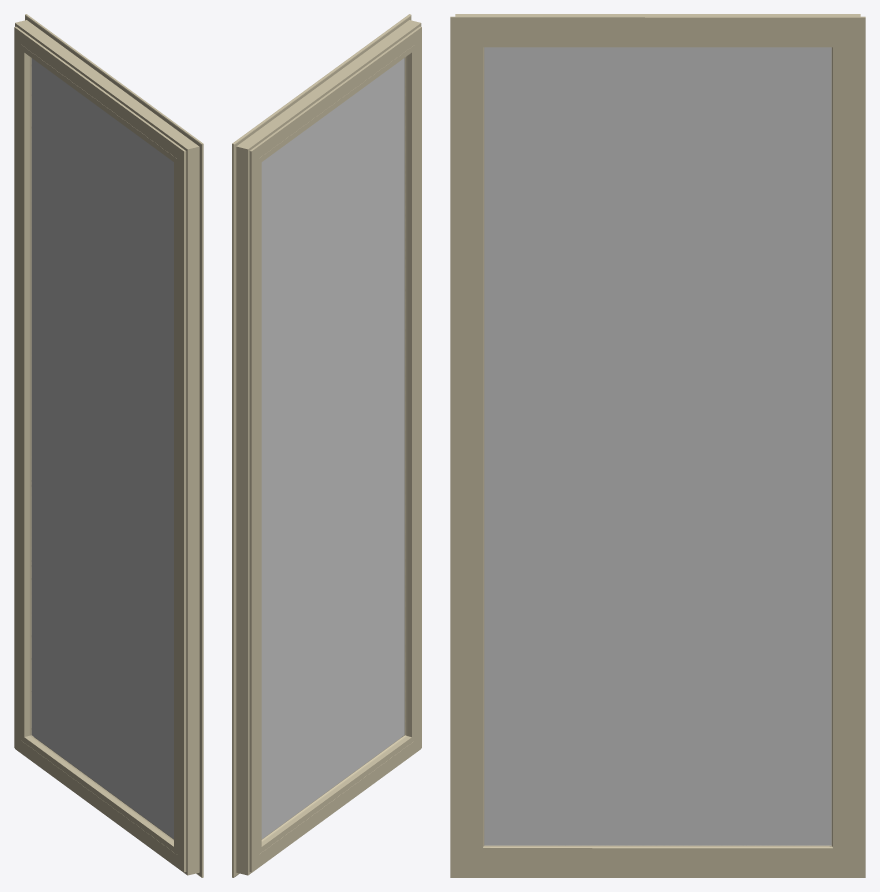
The model's file is DiningDoora.fbx.
3 renders of one model, left to right at view 1: azimuth 30°, elevation 25°; view 2: azimuth 150°, elevation 25°; view 3: azimuth 270°, elevation 25°, orthographic. The views are drawn at different scales.
Visible parts, largest first — view 1: 45-25-28-366_- Aluminium Biparting door (EDT 02):EDT 03:1101; view 2: 45-25-28-366_- Aluminium Biparting door (EDT 02):EDT 03:1101; view 3: 45-25-28-366_- Aluminium Biparting door (EDT 02):EDT 03:1101.
Part boxes in pixels (x1,y1,x2,y2): 45-25-28-366_- Aluminium Biparting door (EDT 02):EDT 03:1101: (14,14,203,877); 45-25-28-366_- Aluminium Biparting door (EDT 02):EDT 03:1101: (232,14,421,877); 45-25-28-366_- Aluminium Biparting door (EDT 02):EDT 03:1101: (450,14,865,877).
Size of the model in its own units: 0.0658 by 2.83 by 1.24.
